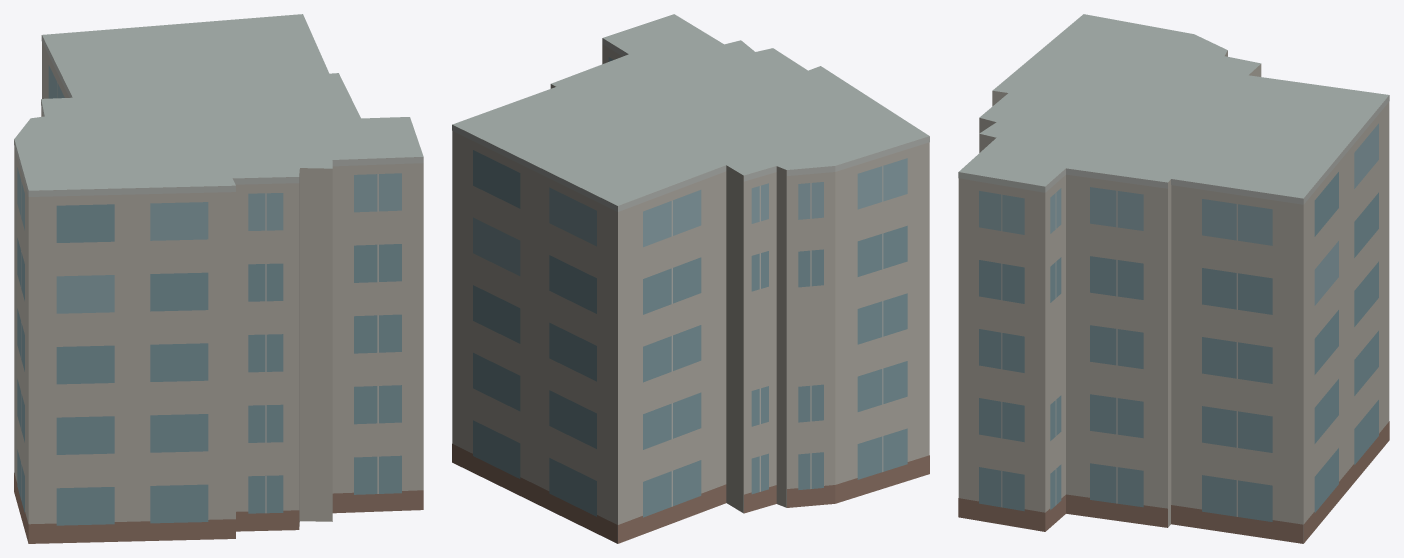
The model's file is survey-upis-33004178.glb.
The picture shows the model from 3 angles, left to right: view 1: azimuth 30°, elevation 25°; view 2: azimuth 150°, elevation 25°; view 3: azimuth 270°, elevation 25°; orthographic projection. The views are drawn at different scales.
Visible parts, largest first — view 1: survey-upis-33004178.tmp; view 2: survey-upis-33004178.tmp; view 3: survey-upis-33004178.tmp.
Part boxes in pixels (x1,y1,x2,y2): survey-upis-33004178.tmp: (14, 14, 423, 543); survey-upis-33004178.tmp: (452, 14, 929, 543); survey-upis-33004178.tmp: (958, 14, 1389, 543).
Size of the model in its own units: 15.54 by 13.55 by 15.34.
